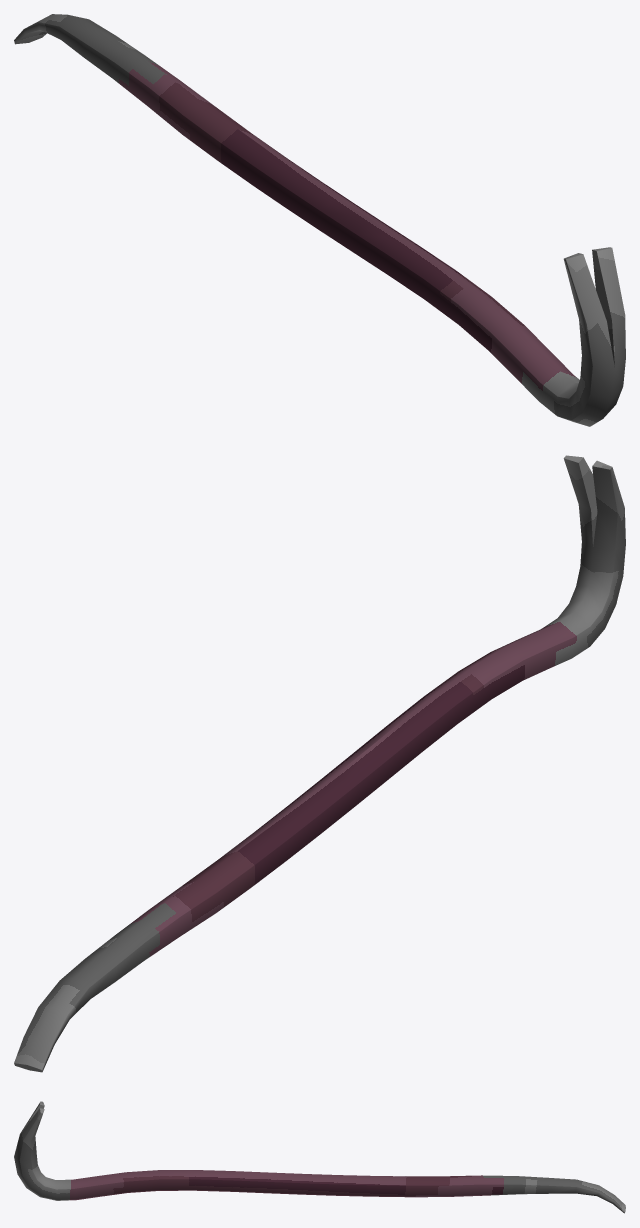
File: Crowbar.fbx
The picture shows the model from 3 angles, top to bottom: view 1: azimuth 30°, elevation 25°; view 2: azimuth 150°, elevation 25°; view 3: azimuth 270°, elevation 25°; orthographic projection. The views are drawn at different scales.
Parts seen in each view (by area): view 1: crowbar; view 2: crowbar; view 3: crowbar.
Boxes of the visible parts, x1,y1,x2,y2 form: crowbar: (14,14,625,426); crowbar: (14,455,625,1072); crowbar: (14,1101,625,1213).
Size of the model in its own units: 0.0471 by 0.1946 by 1.03.
